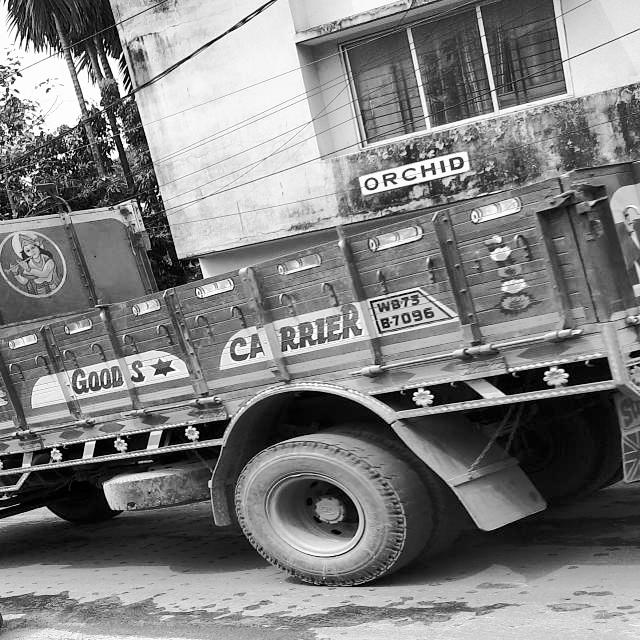HCV: (0, 172, 640, 599)
